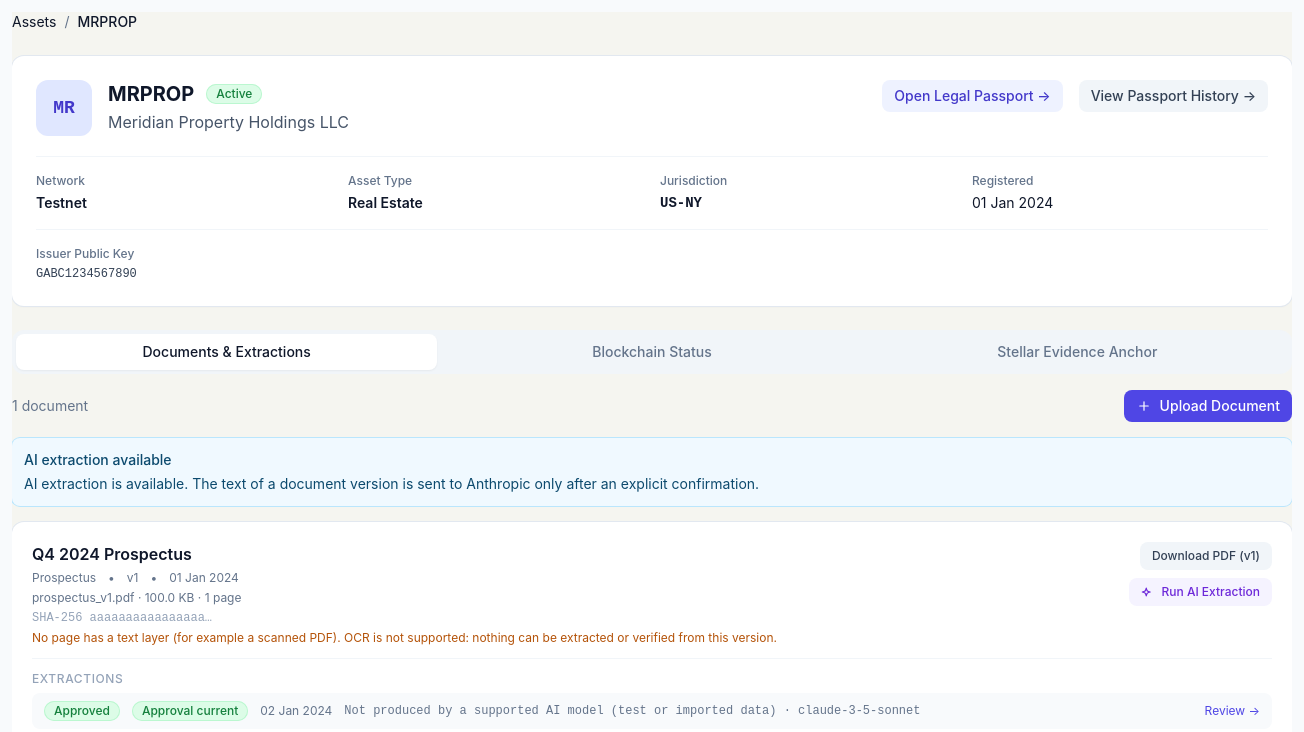
Test: Text layer of the current document version › shows the backend refusal when extraction is refused for a document without text
The image size is (1304, 732).
Click the button "Run AI Extraction". click: (1201, 592)
box: [1130, 578, 1272, 606]
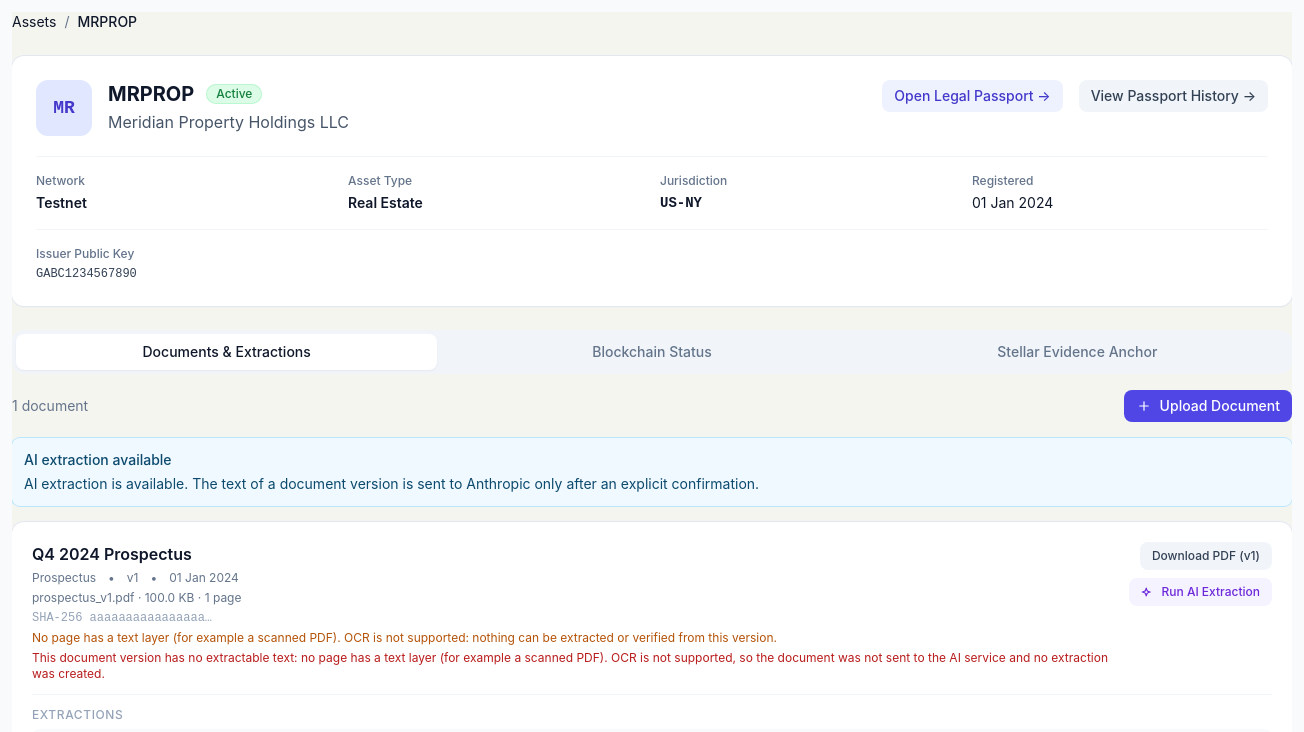
expect the message with test id "extraction-error" shows "This document version has no extractable text: no page has a text layer (for example a scanned PDF). OCR is not supported, so the document was not sent to the A": met, box [32, 650, 1108, 681]
